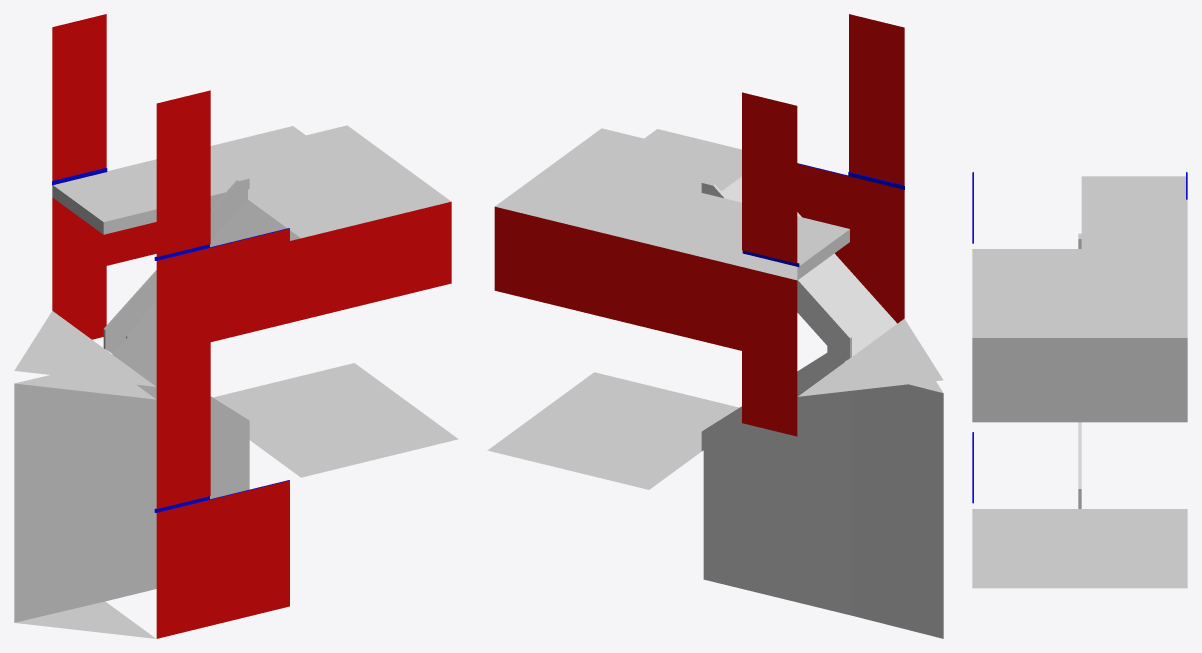
File: StairsWalls.fbx
3 renders of one model, left to right at view 1: azimuth 30°, elevation 25°; view 2: azimuth 150°, elevation 25°; view 3: azimuth 270°, elevation 25°, orthographic. The views are drawn at different scales.
Visible parts, largest first — view 1: Plane.101; view 2: Plane.101; view 3: Plane.101.
Boxes of the visible parts, x1,y1,x2,y2 form: Plane.101: (14, 14, 458, 638); Plane.101: (487, 14, 943, 638); Plane.101: (972, 172, 1187, 588).
Bounding box in the file's own units: 6.52 × 8.5 × 3.
